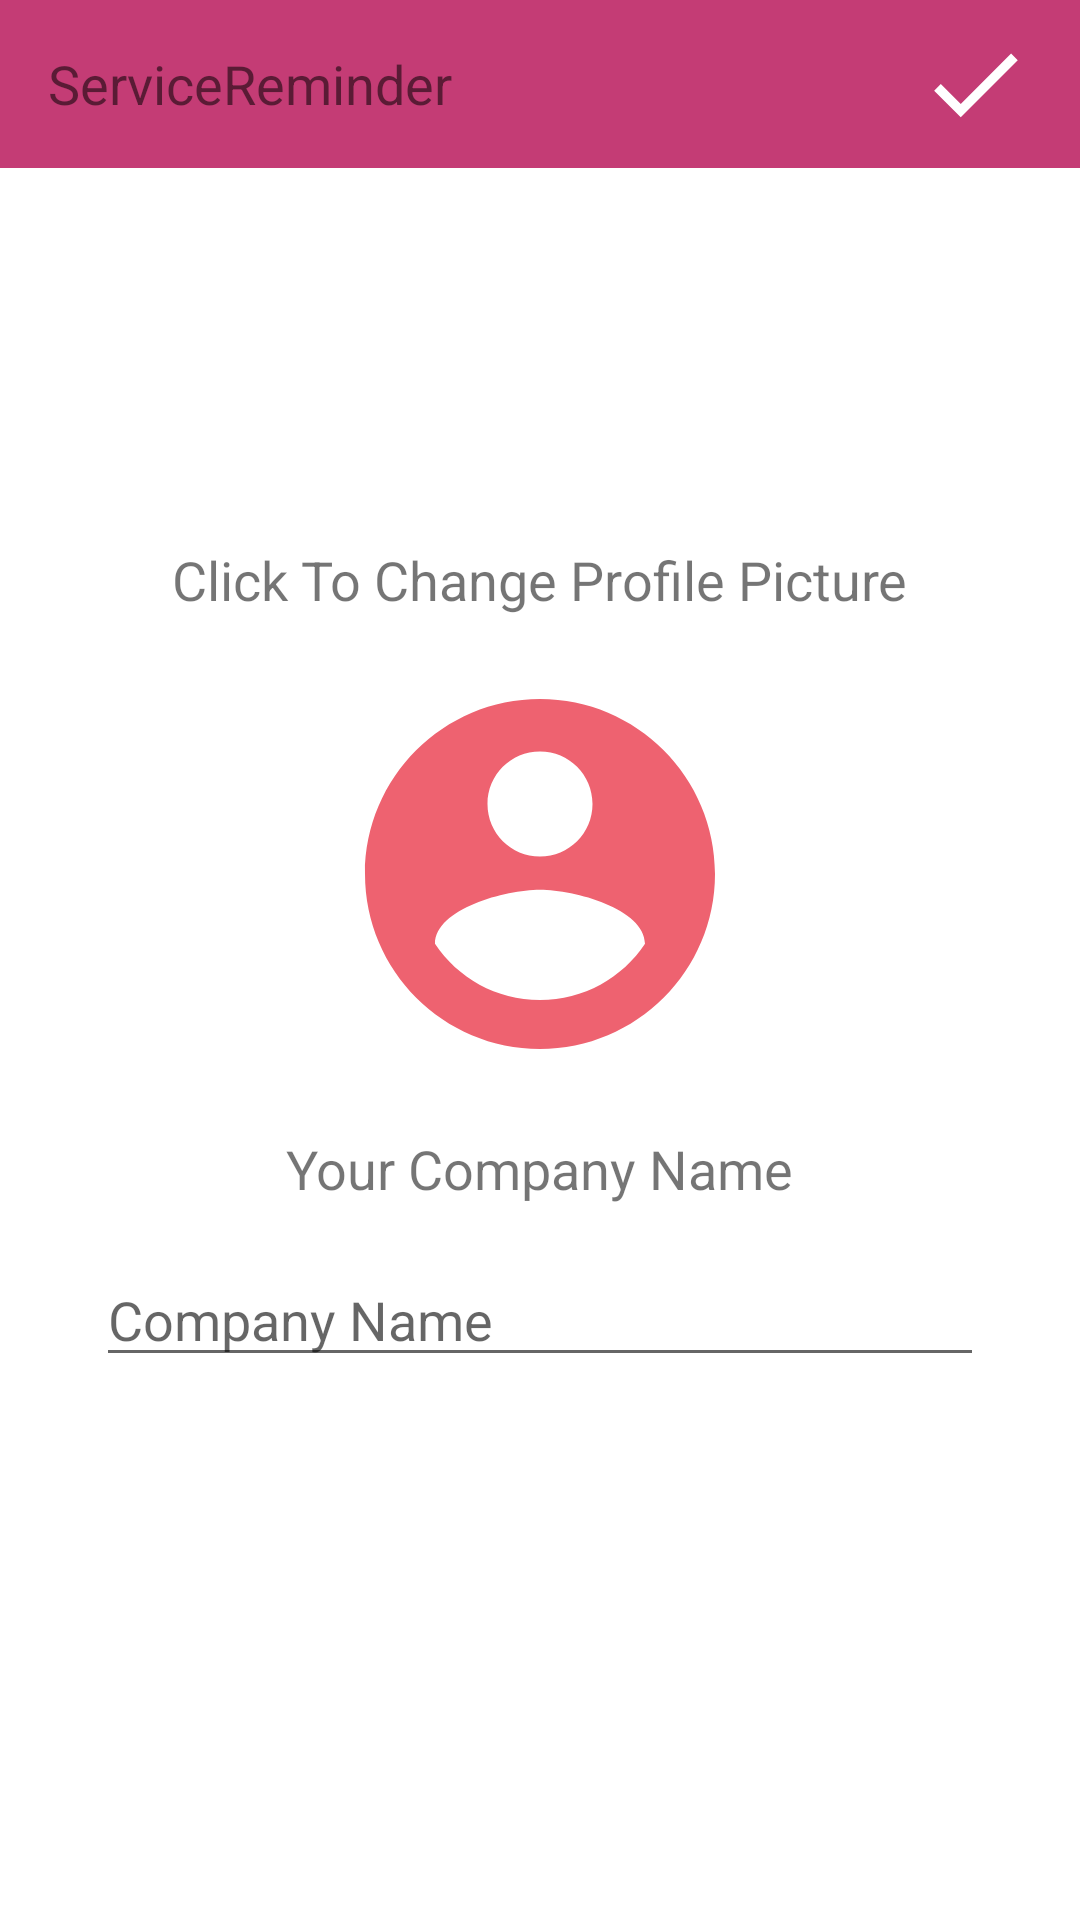

Point at icon controls on the screen. Image size 1080w x 1920h, points as (x=x, y=y).
complete: (x=976, y=85)
